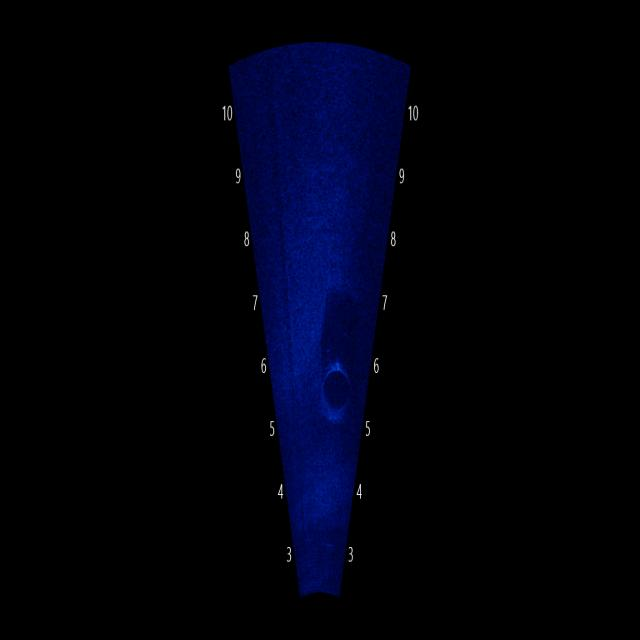circle: (310, 338, 370, 437)
